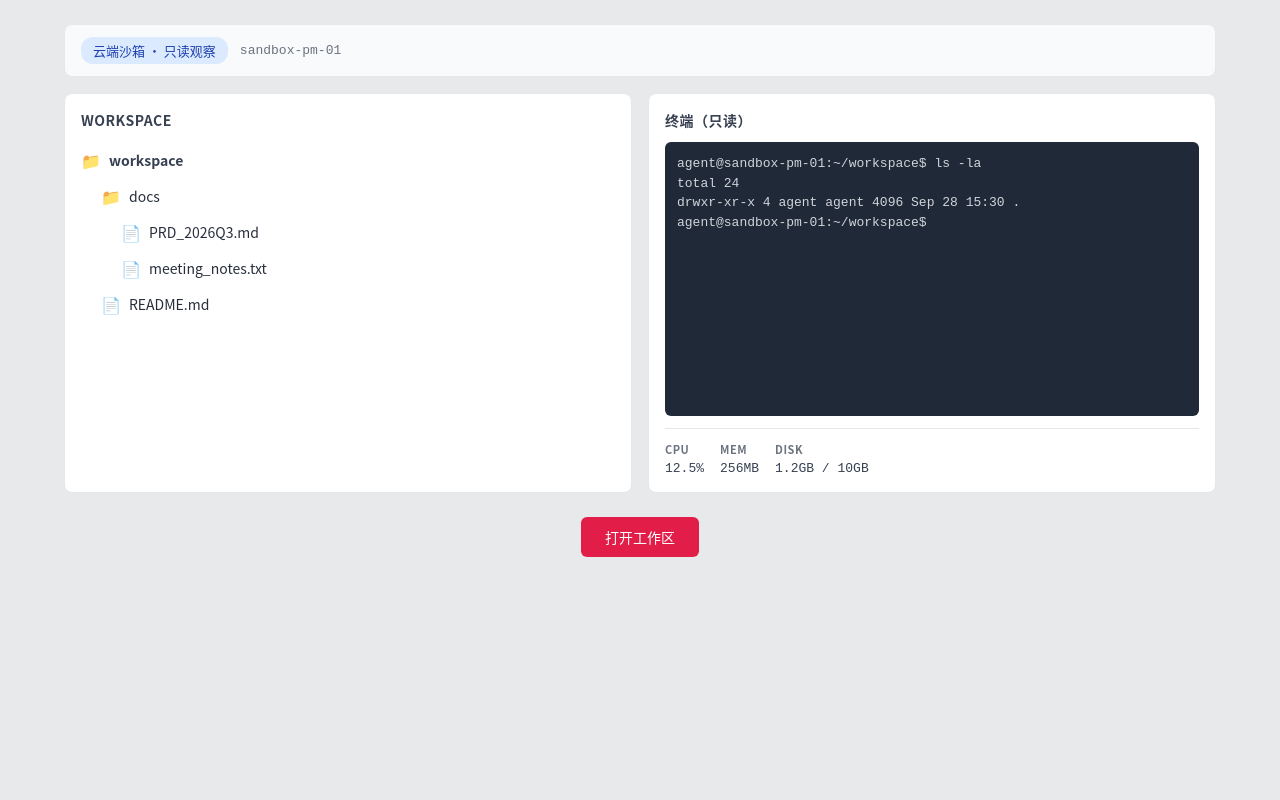
Test: Computer Contract Tests › should show selection feedback when file is clicked
Click the text "PRD_2026Q3.md" at (204, 232), box [149,222,259,242]
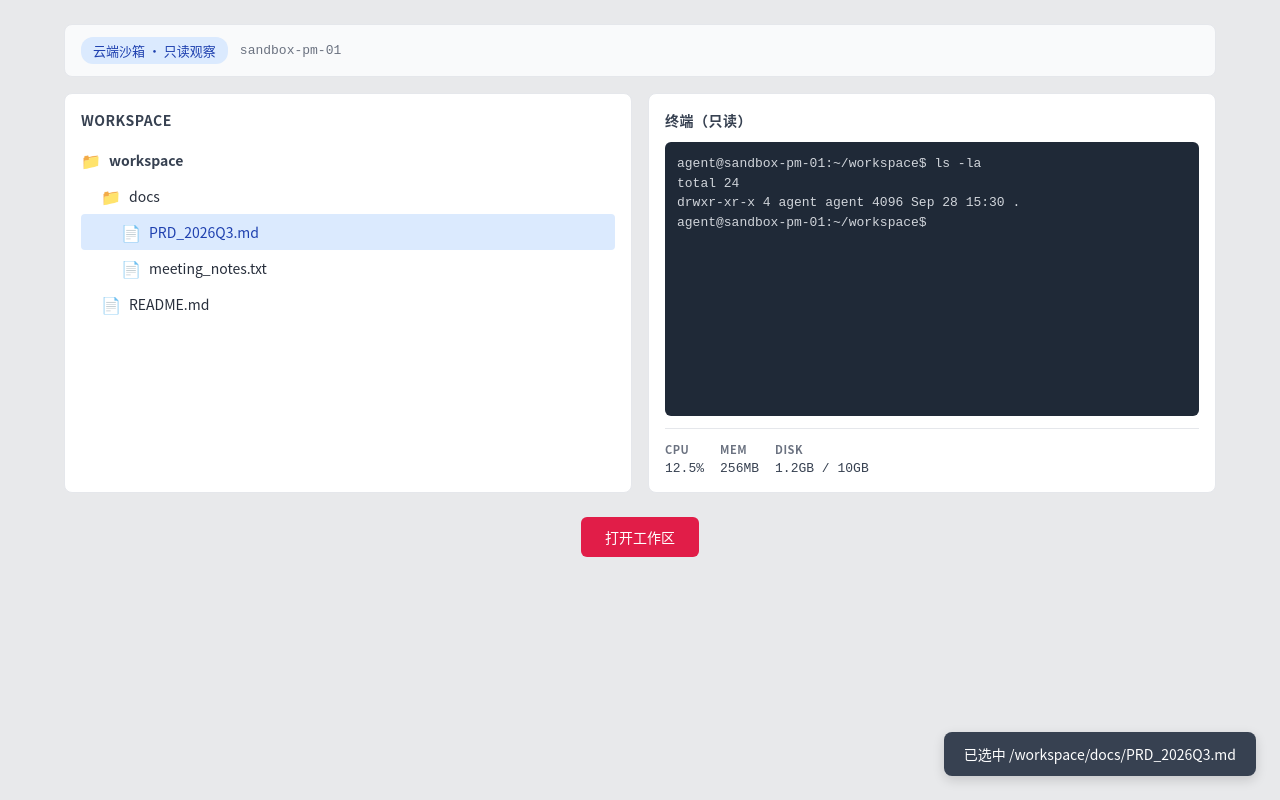
Check: the text "已选中 /workspace/docs/PRD_2026Q3.md" is shown, box [944,732,1256,776]
